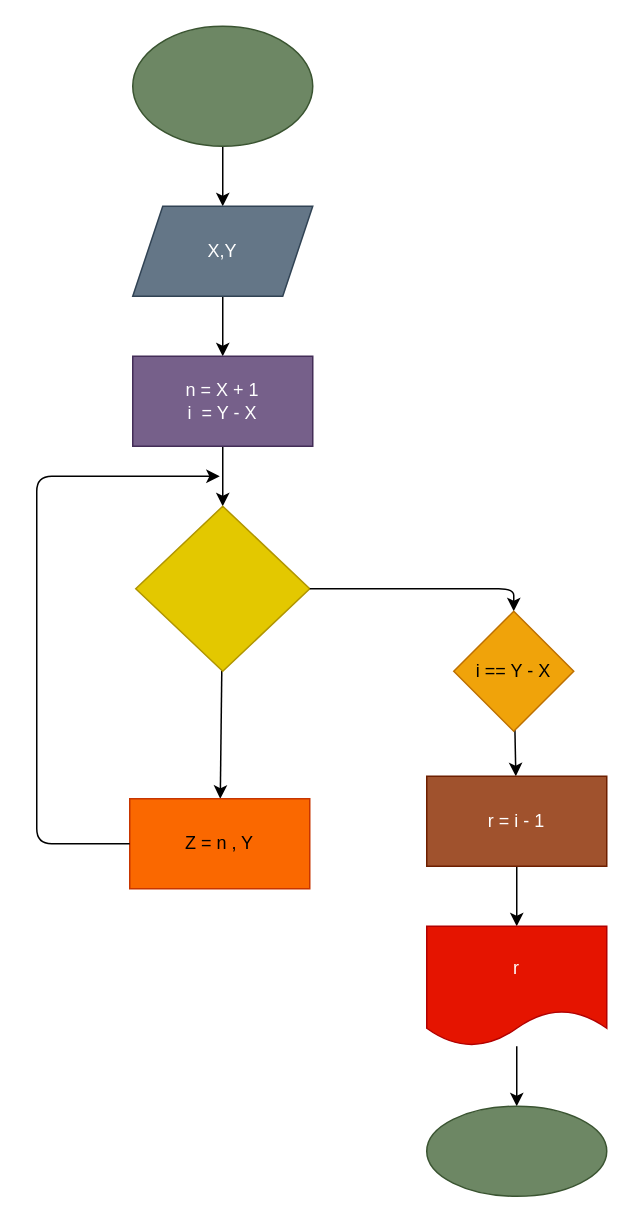
This 633x1223 diagram has some shape labels left out. The shapes that lost their labels are listed below. From the top down, each one's centre as x and y in pixels, then its label:
the point at 222,85: INICIO
the point at 222,588: X == n
the point at 516,1150: FIN
